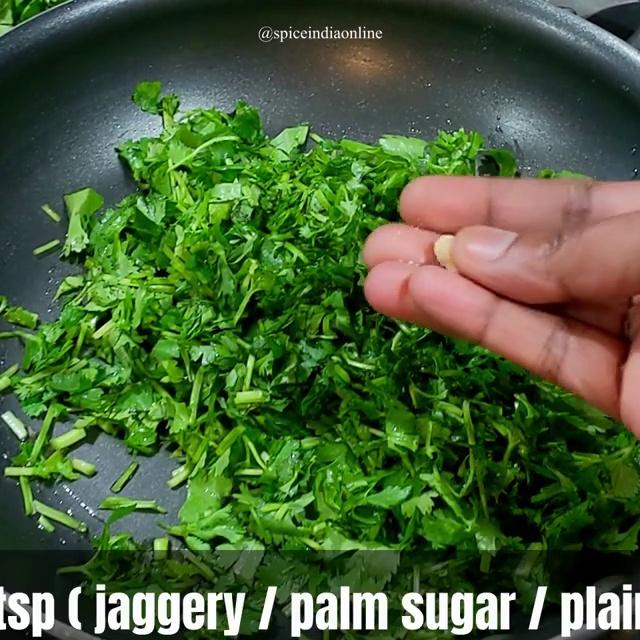cilantro: (69, 138, 354, 523)
